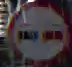No overtake: (6, 0, 67, 66)
